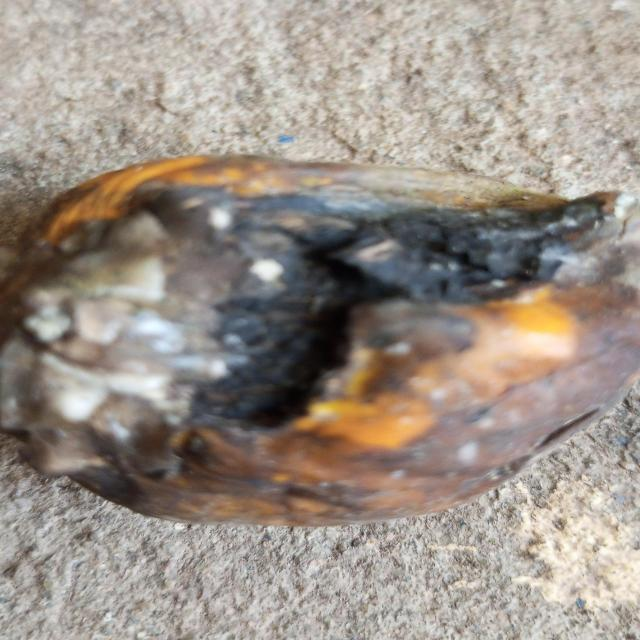damaged: (0, 154, 640, 532)
